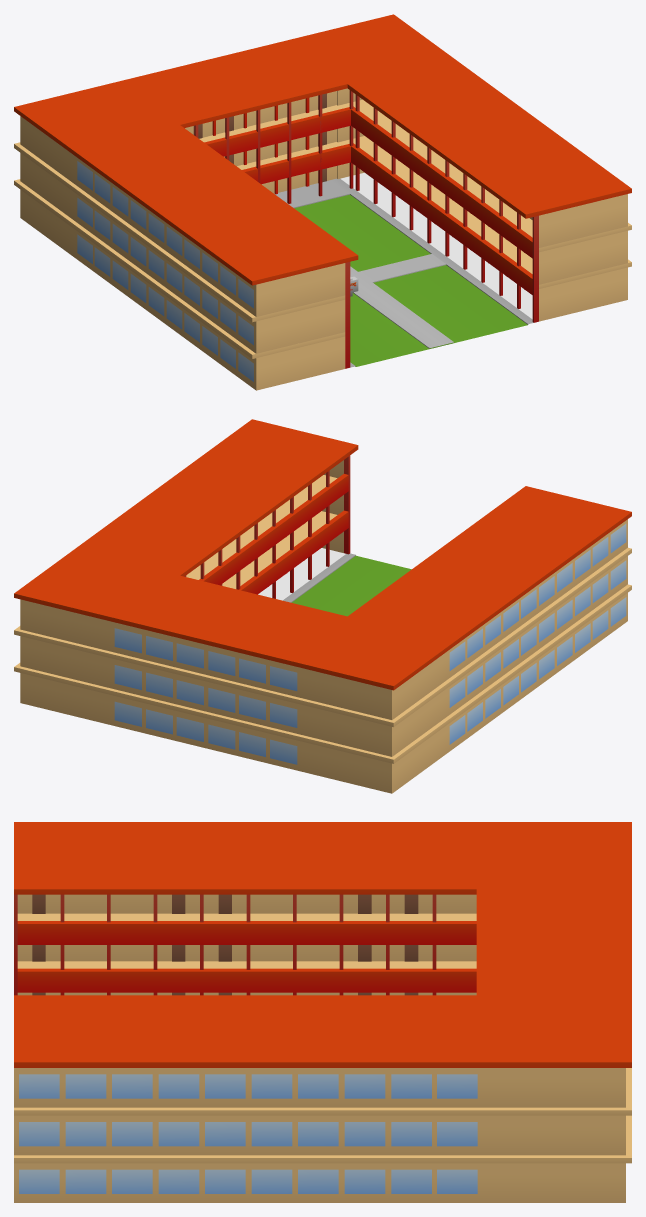
The model's file is gedung barung.fbx.
3 views of the same model, one above another, from view 1: azimuth 30°, elevation 25°; view 2: azimuth 150°, elevation 25°; view 3: azimuth 270°, elevation 25° (orthographic). The views are drawn at different scales.
Visible parts, largest first — view 1: Gedung Barung; view 2: Gedung Barung; view 3: Gedung Barung.
Boxes of the visible parts, x1,y1,x2,y2 form: Gedung Barung: (14,14,631,390); Gedung Barung: (14,419,631,793); Gedung Barung: (14,822,631,1202).
Size of the model in its own units: 4650 by 1300 by 5050.
1 material, 1 textured.
